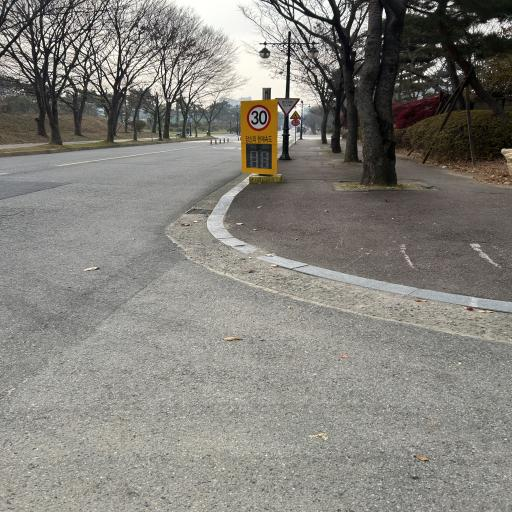drain: (186, 209, 212, 215)
